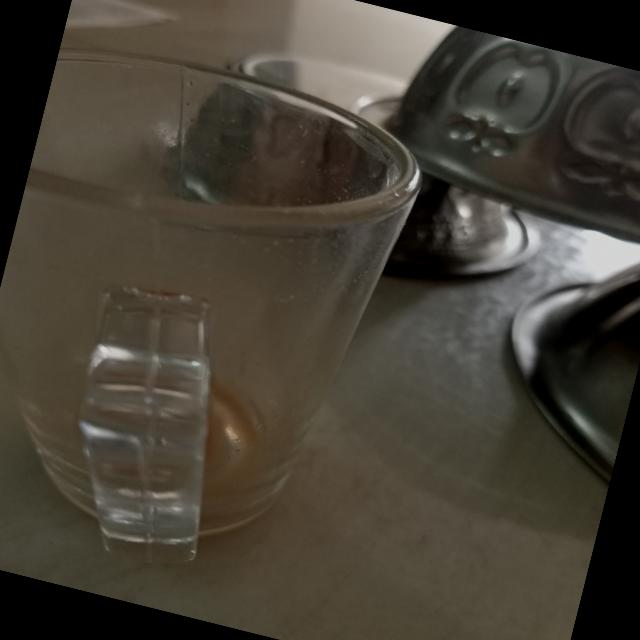glass-VX4N: (0, 22, 447, 599)
